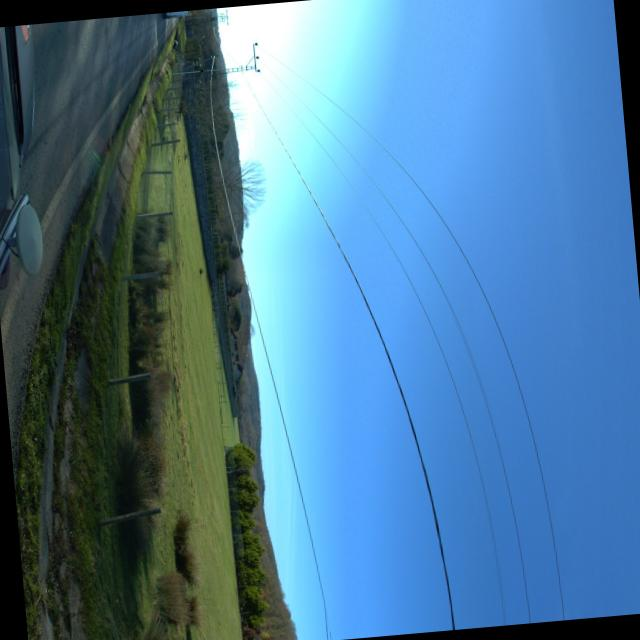Utility Pole Information Plate: (199, 70, 202, 72)
